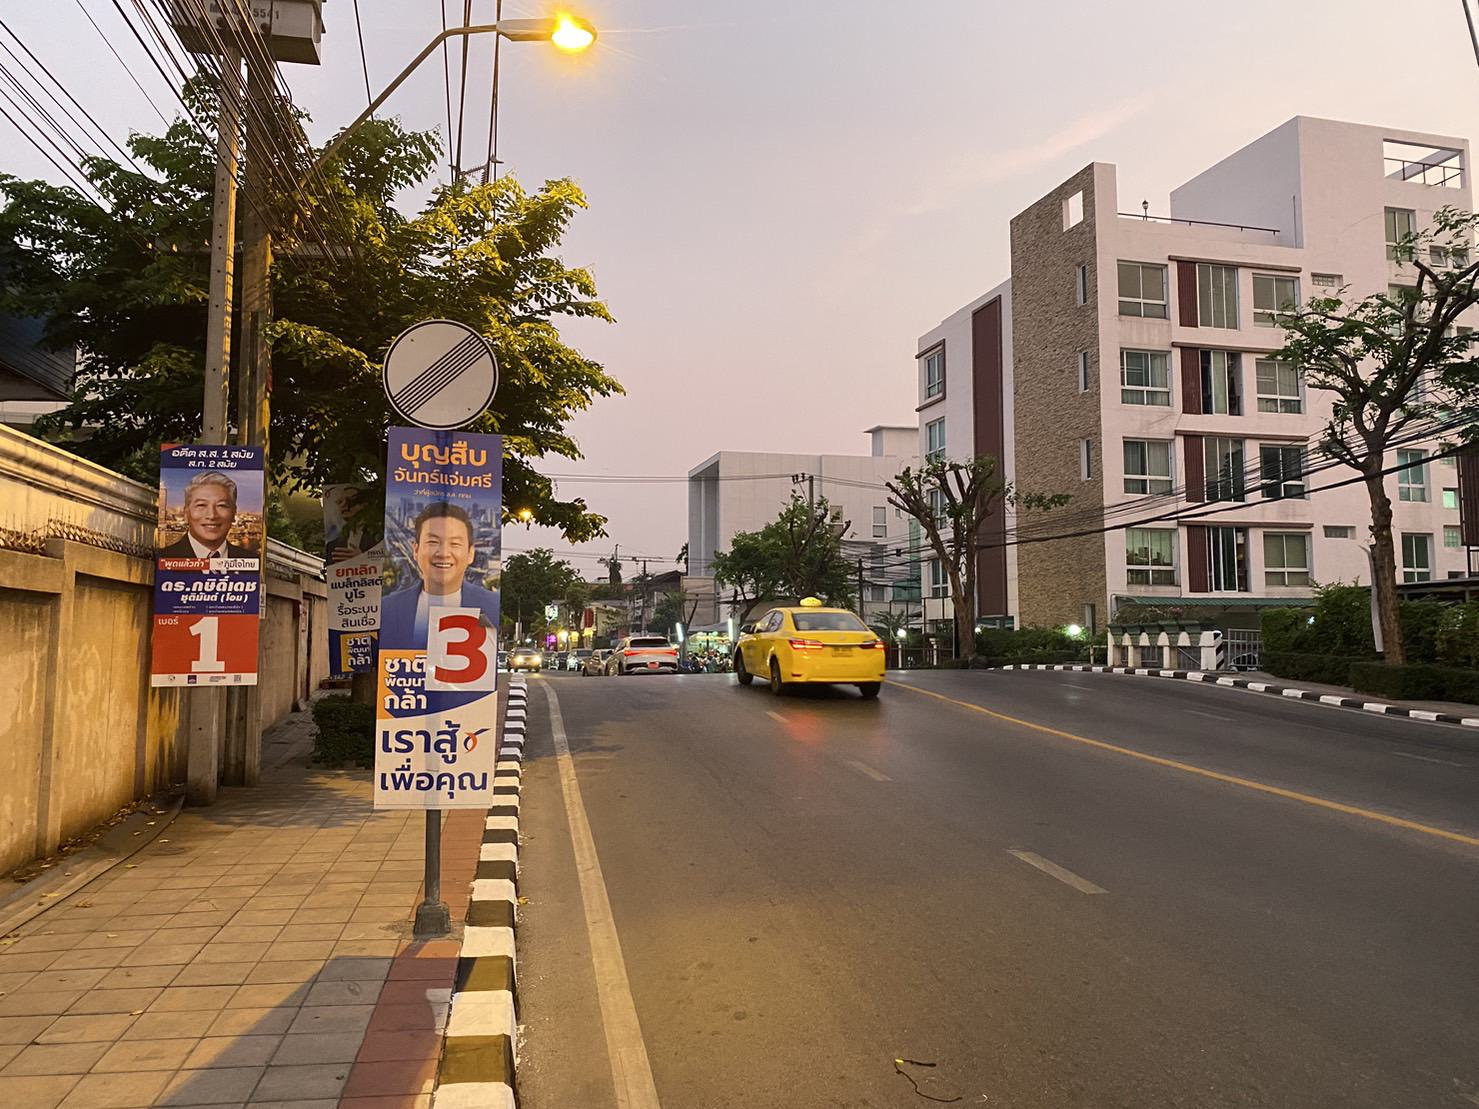Banner: (367, 424, 496, 808), (148, 443, 261, 686)
